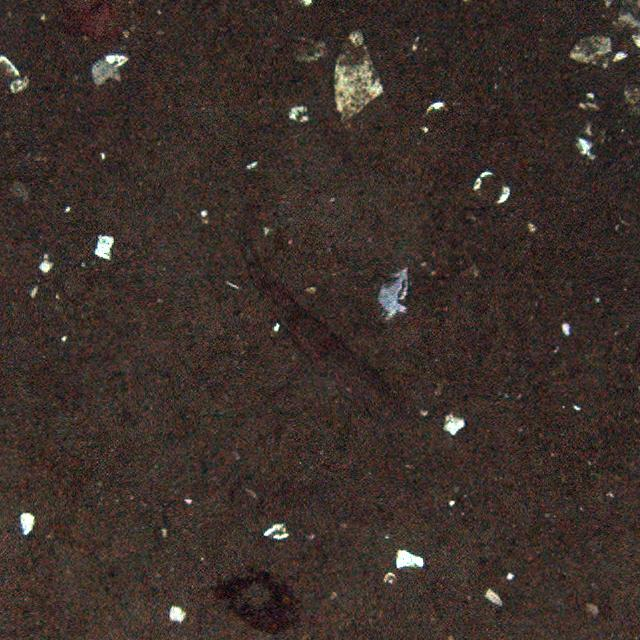roundfish: (238, 235, 408, 428)
